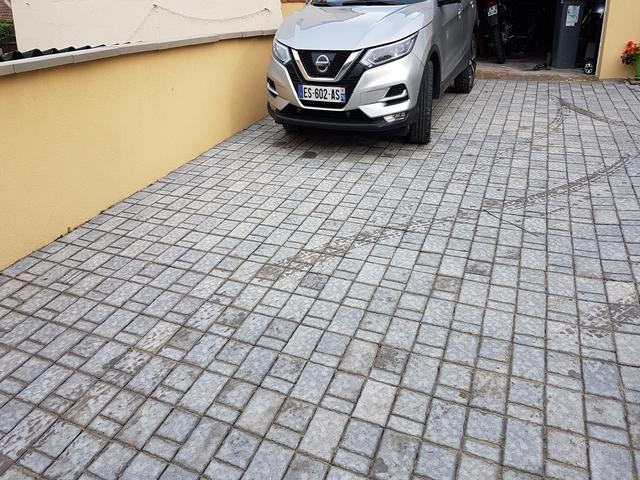Quashquai: (288, 80, 354, 111)
